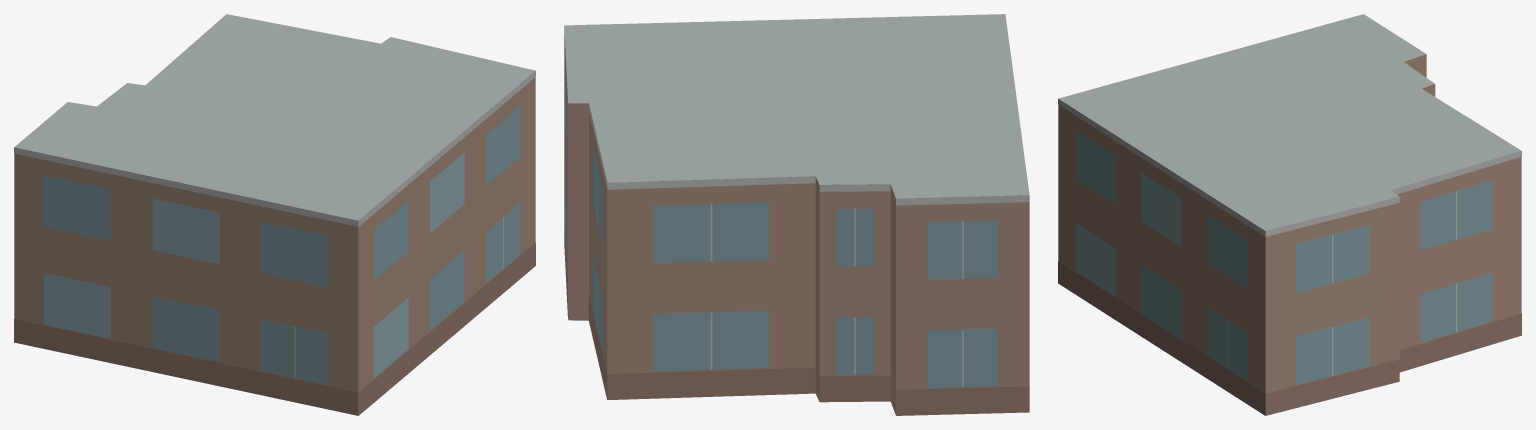
File: survey-upis-32625328.glb
3 renders of one model, left to right at view 1: azimuth 30°, elevation 25°; view 2: azimuth 150°, elevation 25°; view 3: azimuth 270°, elevation 25°, orthographic. The views are drawn at different scales.
Parts seen in each view (by area): view 1: survey-upis-32625328.tmp; view 2: survey-upis-32625328.tmp; view 3: survey-upis-32625328.tmp.
Boxes of the visible parts, x1,y1,x2,y2 form: survey-upis-32625328.tmp: (14,14,535,415); survey-upis-32625328.tmp: (564,14,1029,415); survey-upis-32625328.tmp: (1058,14,1521,415).
Size of the model in its own units: 19.15 by 7.6 by 17.29.
